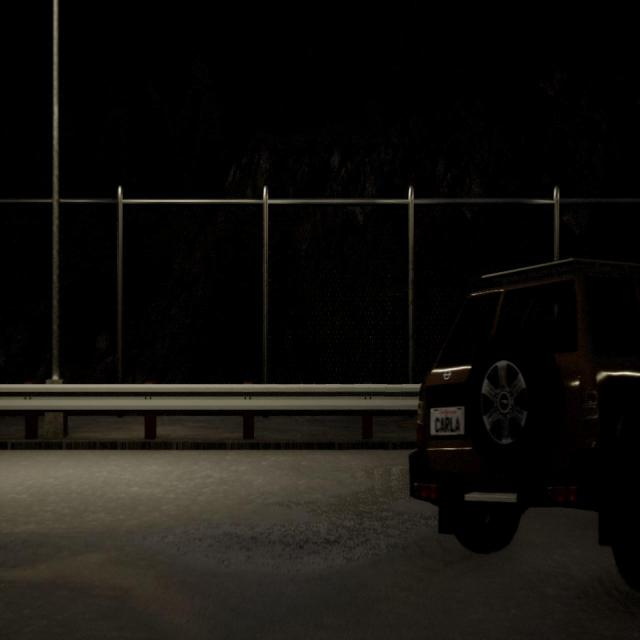Vehicle: (405, 260, 640, 579)
